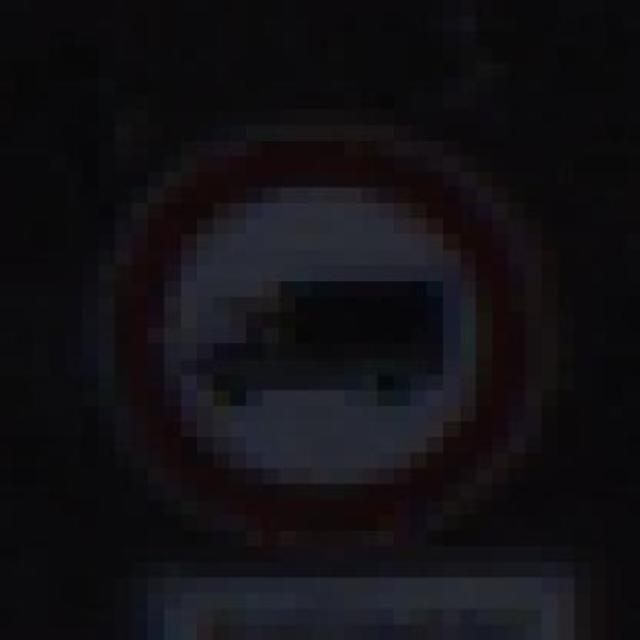Truck traffic is prohibited: (49, 94, 542, 546)
